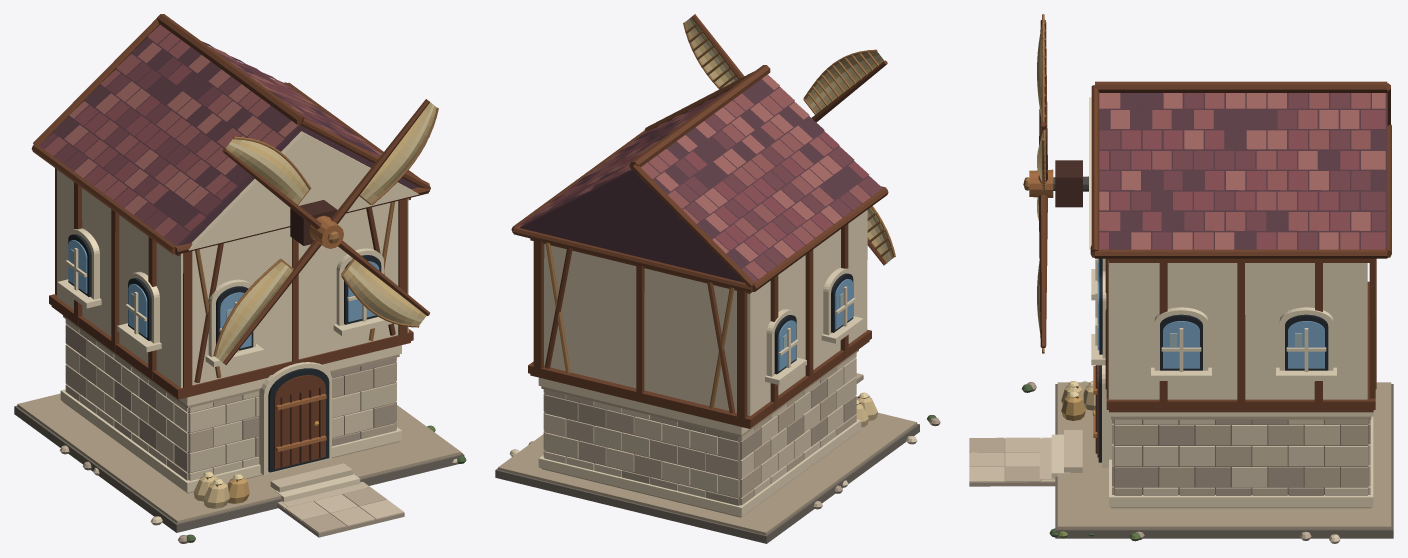
File: windmill-nivel-3.glb
The picture shows the model from 3 angles, left to right: view 1: azimuth 30°, elevation 25°; view 2: azimuth 150°, elevation 25°; view 3: azimuth 270°, elevation 25°; orthographic projection. The views are drawn at different scales.
Visible parts, largest first — view 1: Moinho de vento 03 #e6d7ba, Moinho de vento 03 #70432c, Moinho de vento 03 #b4a38a, Moinho de vento 03 #593b44, Moinho de vento 03 #d3c3a9, Moinho de vento 03 #8f5655, Moinho de vento 03 #dac9af, Moinho de vento 03 #70444a, Moinho de vento 03 #9e645f, Moinho de vento 03 #c1af99, Moinho de vento 03 #824a50, Moinho de vento 03 #ae9d8b (+14 smaller); view 2: Moinho de vento 03 #e6d7ba, Moinho de vento 03 #70432c, Moinho de vento 03 #593b44, Moinho de vento 03 #b4a38a, Moinho de vento 03 #c1af99, Moinho de vento 03 #dac9af, Moinho de vento 03 #8f5655, Moinho de vento 03 #9e645f, Moinho de vento 03 #70444a, Moinho de vento 03 #d3c3a9, Moinho de vento 03 #824a50, Moinho de vento 03 #746c62 (+10 smaller); view 3: Moinho de vento 03 #e6d7ba, Moinho de vento 03 #70432c, Moinho de vento 03 #593b44, Moinho de vento 03 #b4a38a, Moinho de vento 03 #824a50, Moinho de vento 03 #70444a, Moinho de vento 03 #9e645f, Moinho de vento 03 #c1af99, Moinho de vento 03 #8f5655, Moinho de vento 03 #dac9af, Moinho de vento 03 #d3c3a9, Moinho de vento 03 #ae9d8b (+9 smaller).
Boxes of the visible parts, left/top/right/bottom form: Moinho de vento 03 #e6d7ba: left=57, top=131, right=418, bottom=502; Moinho de vento 03 #70432c: left=31, top=14, right=430, bottom=486; Moinho de vento 03 #b4a38a: left=17, top=315, right=461, bottom=523; Moinho de vento 03 #593b44: left=44, top=32, right=419, bottom=245; Moinho de vento 03 #d3c3a9: left=65, top=319, right=457, bottom=526; Moinho de vento 03 #8f5655: left=44, top=24, right=377, bottom=236; Moinho de vento 03 #dac9af: left=65, top=340, right=404, bottom=525; Moinho de vento 03 #70444a: left=39, top=54, right=380, bottom=245; Moinho de vento 03 #9e645f: left=64, top=42, right=381, bottom=214; Moinho de vento 03 #c1af99: left=59, top=329, right=396, bottom=533; Moinho de vento 03 #824a50: left=74, top=57, right=380, bottom=231; Moinho de vento 03 #ae9d8b: left=65, top=324, right=404, bottom=543; Moinho de vento 03 #e6d7ba: left=538, top=210, right=867, bottom=516; Moinho de vento 03 #70432c: left=511, top=65, right=888, bottom=428; Moinho de vento 03 #593b44: left=520, top=79, right=871, bottom=282; Moinho de vento 03 #b4a38a: left=498, top=349, right=916, bottom=534; Moinho de vento 03 #c1af99: left=528, top=367, right=863, bottom=509; Moinho de vento 03 #dac9af: left=509, top=358, right=917, bottom=495; Moinho de vento 03 #8f5655: left=530, top=87, right=870, bottom=278; Moinho de vento 03 #9e645f: left=539, top=74, right=842, bottom=261; Moinho de vento 03 #70444a: left=531, top=91, right=882, bottom=282; Moinho de vento 03 #d3c3a9: left=543, top=353, right=856, bottom=497; Moinho de vento 03 #824a50: left=518, top=98, right=869, bottom=254; Moinho de vento 03 #746c62: left=495, top=423, right=919, bottom=543; Moinho de vento 03 #e6d7ba: left=1051, top=97, right=1373, bottom=507; Moinho de vento 03 #70432c: left=1076, top=81, right=1391, bottom=457; Moinho de vento 03 #593b44: left=1099, top=93, right=1387, bottom=249; Moinho de vento 03 #b4a38a: left=1057, top=382, right=1391, bottom=529; Moinho de vento 03 #824a50: left=1099, top=110, right=1385, bottom=249; Moinho de vento 03 #70444a: left=1099, top=93, right=1385, bottom=249; Moinho de vento 03 #9e645f: left=1099, top=93, right=1385, bottom=249; Moinho de vento 03 #c1af99: left=969, top=419, right=1370, bottom=540; Moinho de vento 03 #8f5655: left=1099, top=93, right=1370, bottom=249; Moinho de vento 03 #dac9af: left=969, top=381, right=1370, bottom=543; Moinho de vento 03 #d3c3a9: left=969, top=419, right=1370, bottom=528; Moinho de vento 03 #ae9d8b: left=969, top=382, right=1370, bottom=539.
Size of the model in its own units: 6.08 by 7.26 by 6.89.
